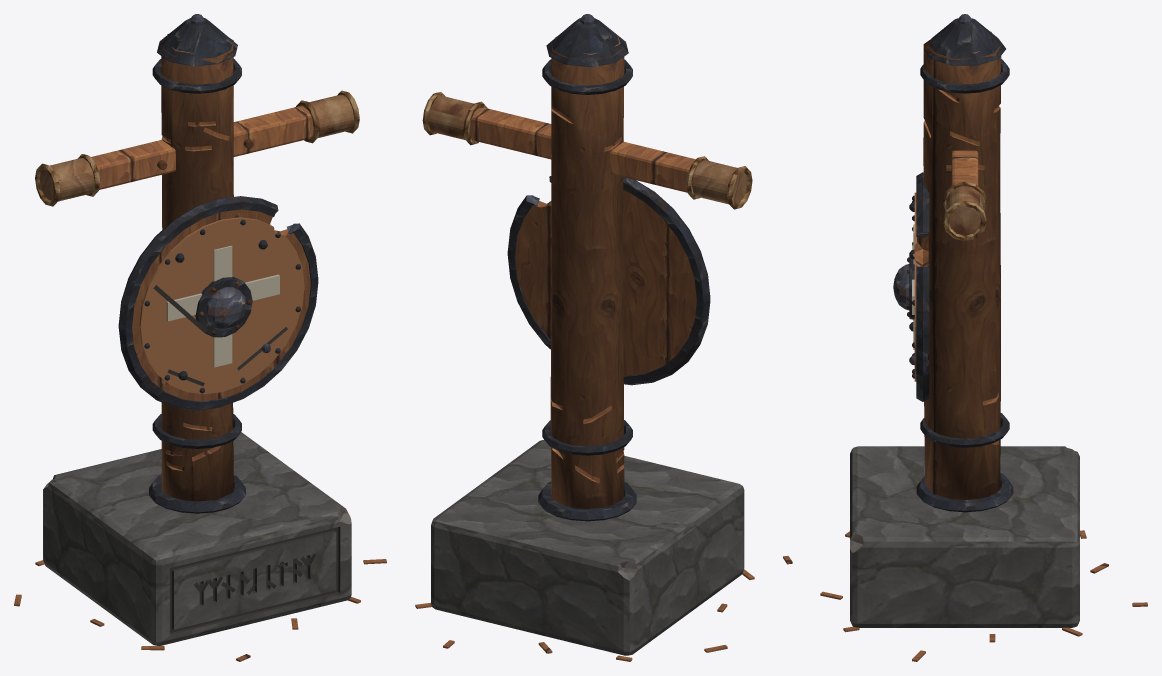
File: hs_shield_pell.glb
3 views of the same model, side by side, from view 1: azimuth 30°, elevation 25°; view 2: azimuth 150°, elevation 25°; view 3: azimuth 270°, elevation 25° (orthographic).
Parts seen in each view (by area): view 1: model; view 2: model; view 3: model.
Boxes of the visible parts, <box> form: model: <box>14,14,386,661</box>; model: <box>415,14,754,661</box>; model: <box>783,14,1147,661</box>.
Bounding box in the file's own units: 0.9775 × 1.63 × 0.9522.
14 materials, 11 textured.
